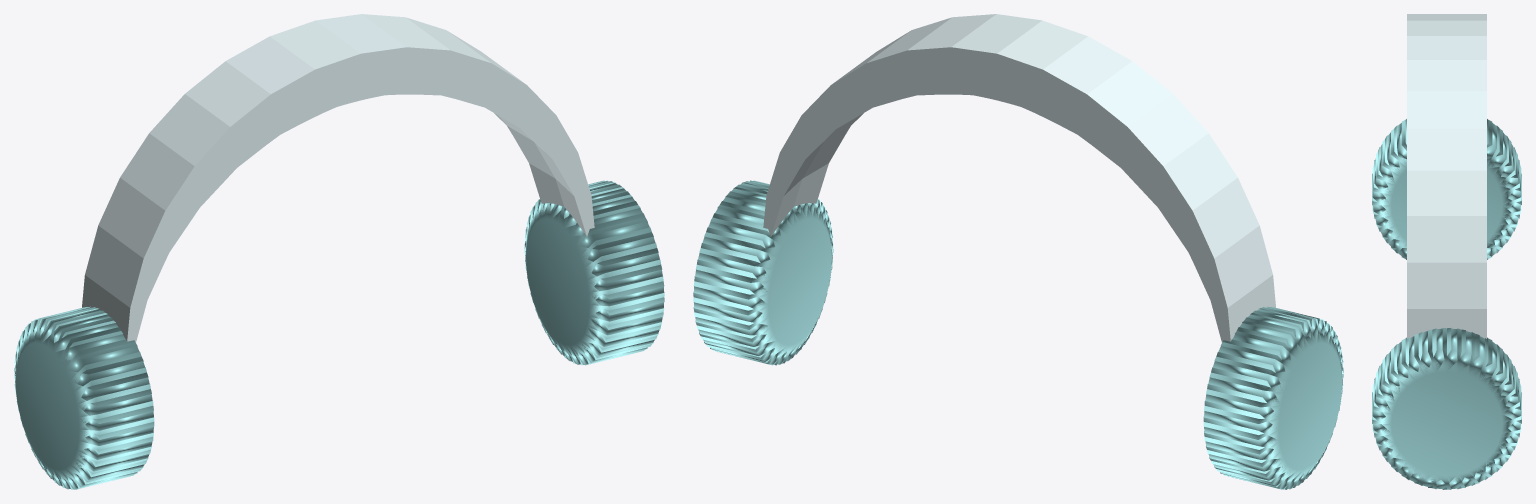
The model's file is item-earmuffs.glb.
3 views of the same model, side by side, from view 1: azimuth 30°, elevation 25°; view 2: azimuth 150°, elevation 25°; view 3: azimuth 270°, elevation 25° (orthographic). The views are drawn at different scales.
Bounding box in the file's own units: 0.3109 × 0.1924 × 0.0786.
